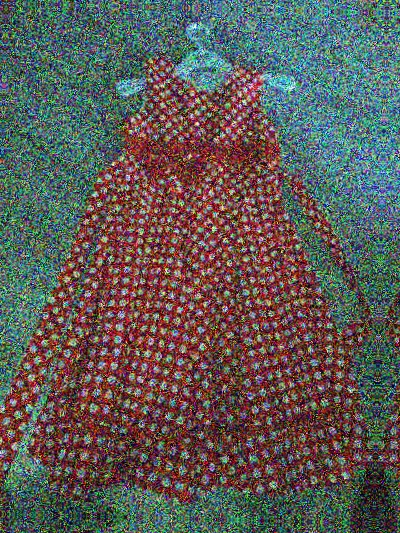Dress: (0, 41, 364, 504), (397, 51, 400, 514)
